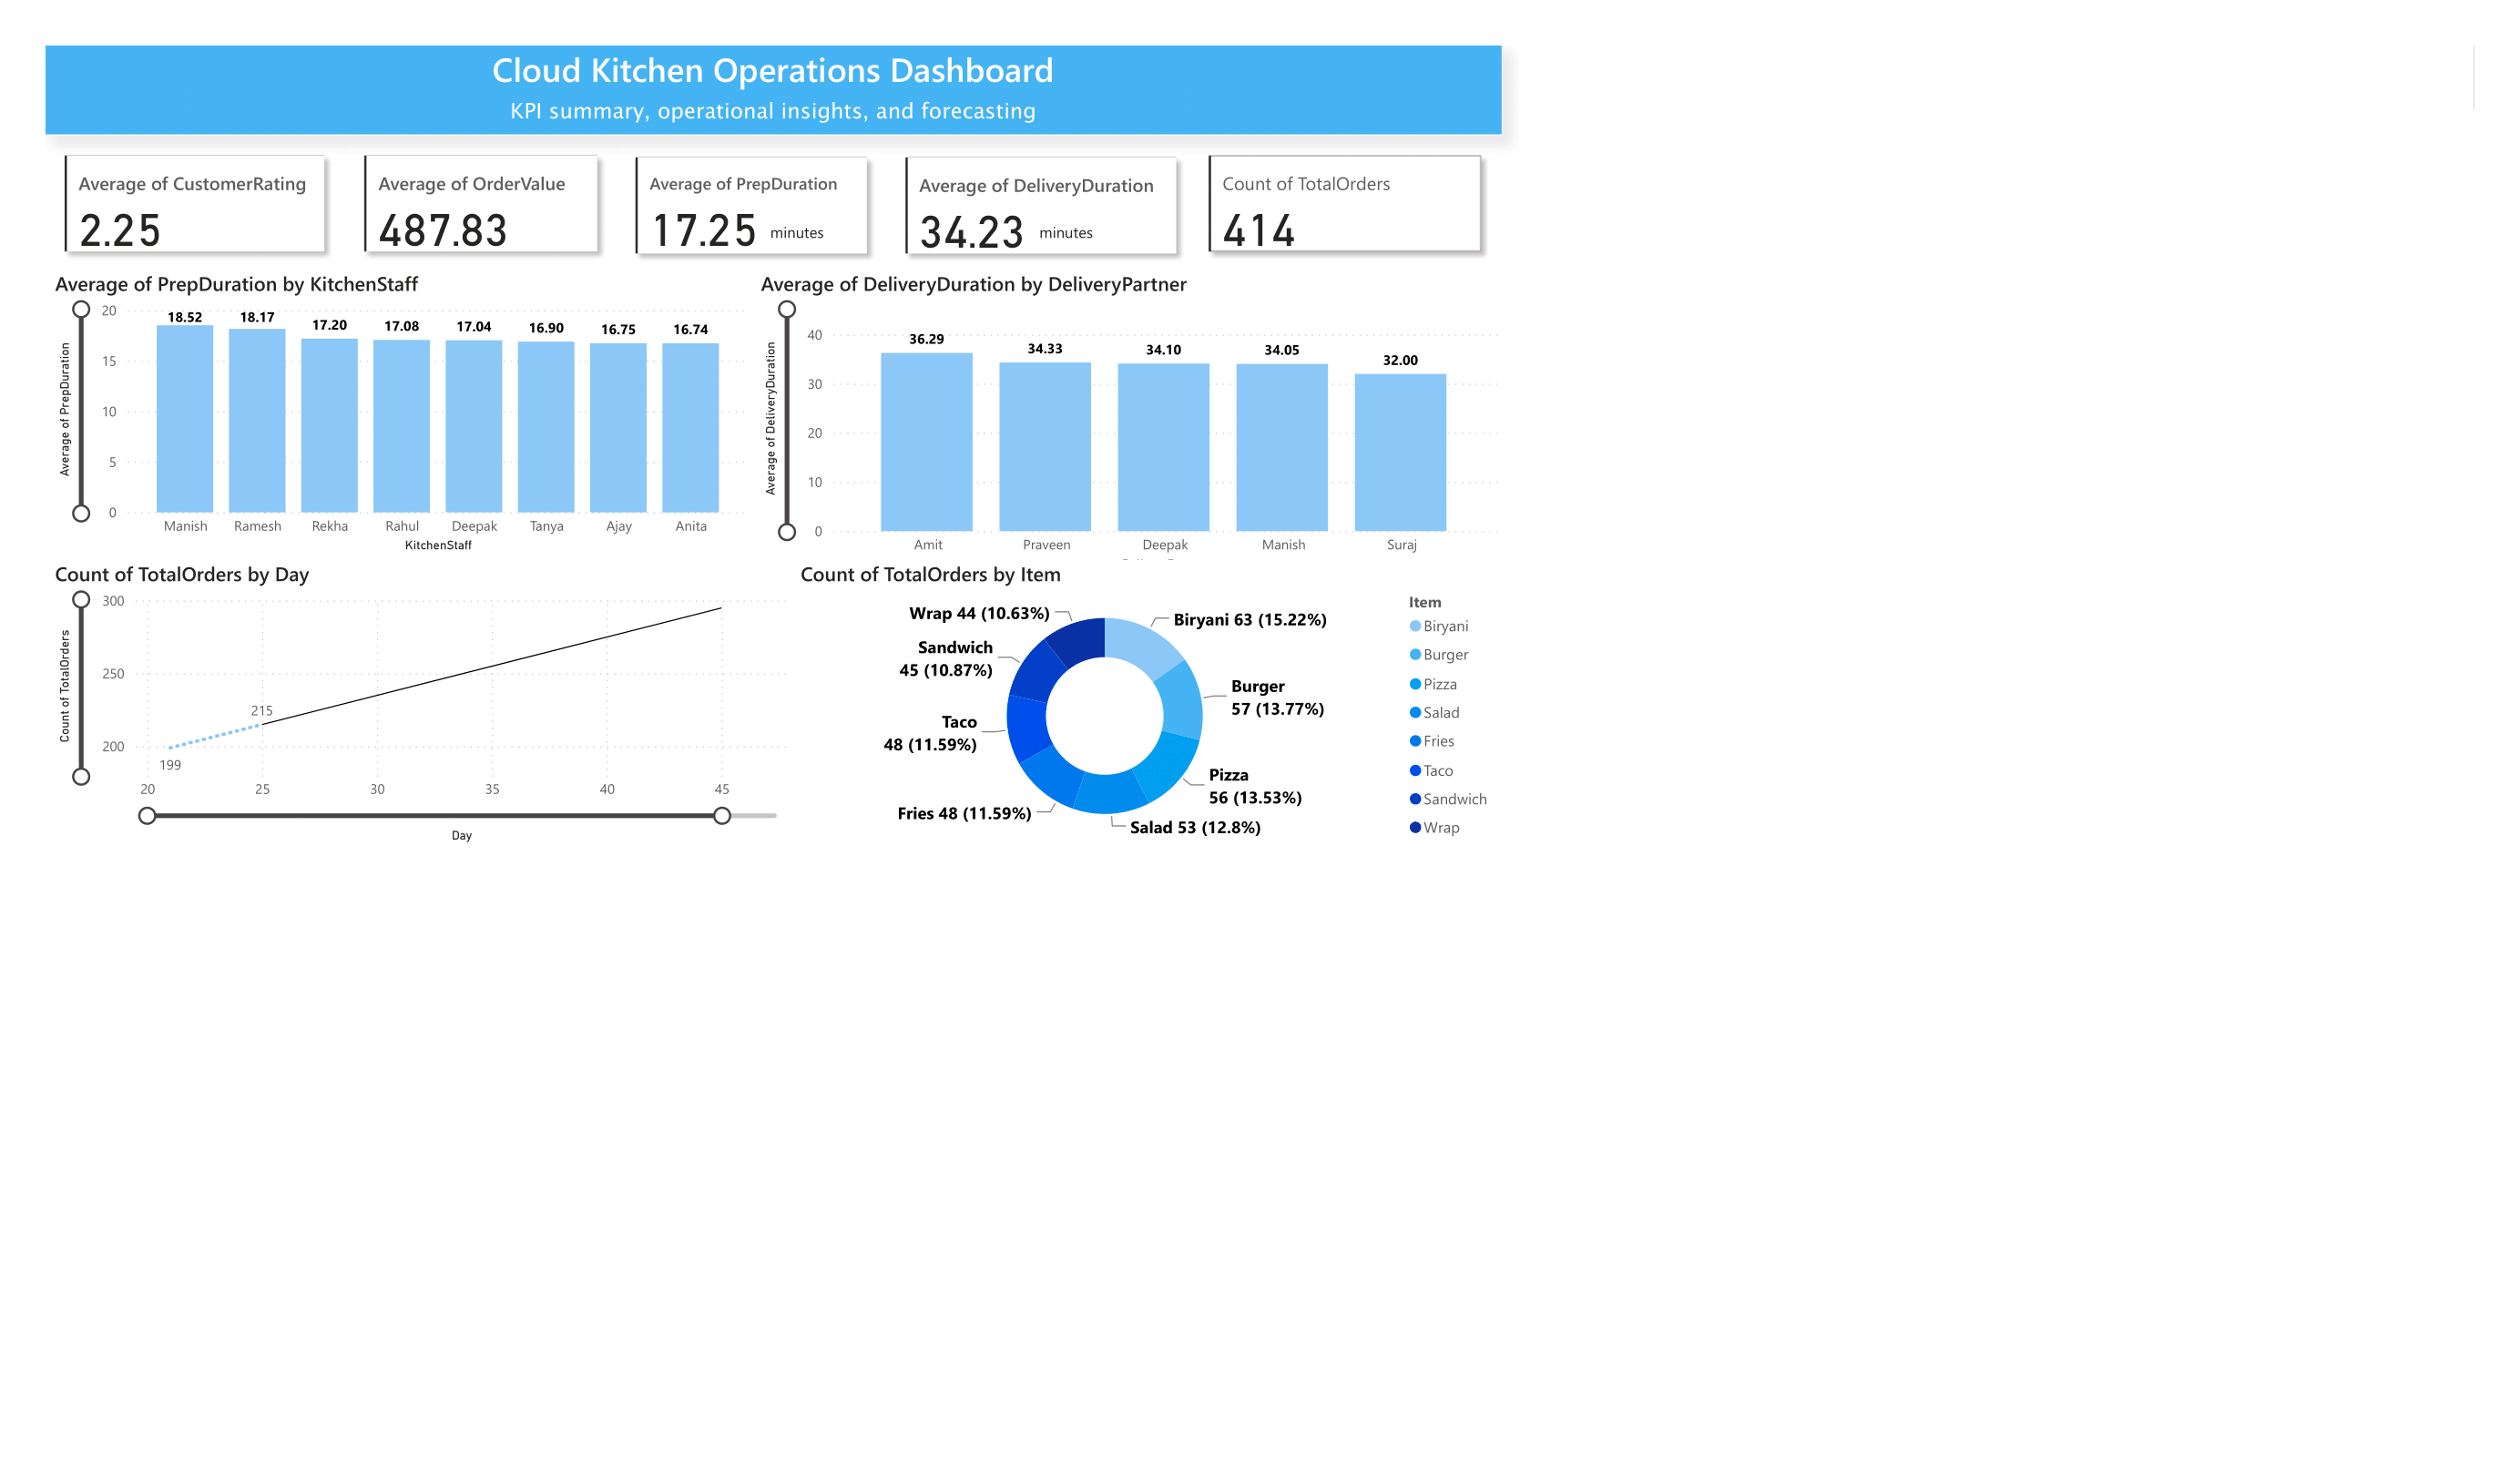

The page's visual inventory and layout, read from the dashboard file:
{"tool":"powerbi","page":{"name":"Page 1","canvas":[1280,720],"ordinal":0},"visuals":[{"type":"cardVisual","fields":{"Data":["cleaned_cloud_kitchen_500.OrderValue"]},"box":[262.8,80.7,238.4,118.6],"z":0},{"type":"cardVisual","fields":{"Data":["cleaned_cloud_kitchen_500.PrepDuration"]},"box":[501.2,81.9,237.1,118.6],"z":1000},{"type":"cardVisual","fields":{"Data":["cleaned_cloud_kitchen_500.DeliveryDuration"]},"box":[738.3,81.9,272.6,118.6],"z":2000},{"type":"cardVisual","fields":{"Data":["cleaned_cloud_kitchen_500.CustomerRating"]},"box":[0,79.5,262.8,118.6],"z":3000},{"type":"columnChart","fields":{"Category":["cleaned_cloud_kitchen_500.KitchenStaff"],"Y":["cleaned_cloud_kitchen_500.PrepDuration"]},"box":[4.1,197.4,619.7,253.6],"z":4000},{"type":"clusteredColumnChart","fields":{"Y":["cleaned_cloud_kitchen_500.DeliveryDuration"],"Category":["cleaned_cloud_kitchen_500.DeliveryPartner"]},"box":[623.8,197.4,656.7,270.1],"z":5000},{"type":"lineChart","fields":{"Y":["cleaned_cloud_kitchen_500.TotalOrders"],"Category":["cleaned_cloud_kitchen_500.OrderTime.Variation.Date Hierarchy.Day"]},"box":[3.7,451.1,654,253],"z":6000},{"type":"donutChart","fields":{"Category":["cleaned_cloud_kitchen_500.Item"],"Y":["cleaned_cloud_kitchen_500.TotalOrders"]},"box":[657.7,452.3,622.2,253],"z":7000},{"type":"textbox","title":"Cloud Kitchen Operations Dashboard","box":[0,0,1278.6,79.5],"z":8000},{"type":"textbox","box":[632,150.4,89.2,28.1],"z":9000},{"type":"textbox","box":[861.8,150.4,69.7,28.1],"z":10000},{"type":"cardVisual","fields":{"Data":["cleaned_cloud_kitchen_500.TotalOrders"]},"box":[1004.8,79.5,273.8,118.6],"z":11000}]}

Visuals, with their boxes on the page's 1280x720 design canvas (x1, y1, x2, y2). These are canvas units, not pixel positions in the 2520x1457 screenshot, which may show the page scaled, cropped or inside an application window:
cardVisual - cleaned_cloud_kitchen_500.OrderValue: BBox(263, 81, 501, 199)
cardVisual - cleaned_cloud_kitchen_500.PrepDuration: BBox(501, 82, 738, 200)
cardVisual - cleaned_cloud_kitchen_500.DeliveryDuration: BBox(738, 82, 1011, 200)
cardVisual - cleaned_cloud_kitchen_500.CustomerRating: BBox(0, 80, 263, 198)
columnChart - cleaned_cloud_kitchen_500.KitchenStaff x cleaned_cloud_kitchen_500.PrepDuration: BBox(4, 197, 624, 451)
clusteredColumnChart - cleaned_cloud_kitchen_500.DeliveryDuration x cleaned_cloud_kitchen_500.DeliveryPartner: BBox(624, 197, 1280, 468)
lineChart - cleaned_cloud_kitchen_500.TotalOrders x cleaned_cloud_kitchen_500.OrderTime.Variation.Date Hierarchy.Day: BBox(4, 451, 658, 704)
donutChart - cleaned_cloud_kitchen_500.Item x cleaned_cloud_kitchen_500.TotalOrders: BBox(658, 452, 1280, 705)
"Cloud Kitchen Operations Dashboard" textbox: BBox(0, 0, 1279, 80)
textbox: BBox(632, 150, 721, 178)
textbox: BBox(862, 150, 932, 178)
cardVisual - cleaned_cloud_kitchen_500.TotalOrders: BBox(1005, 80, 1279, 198)
